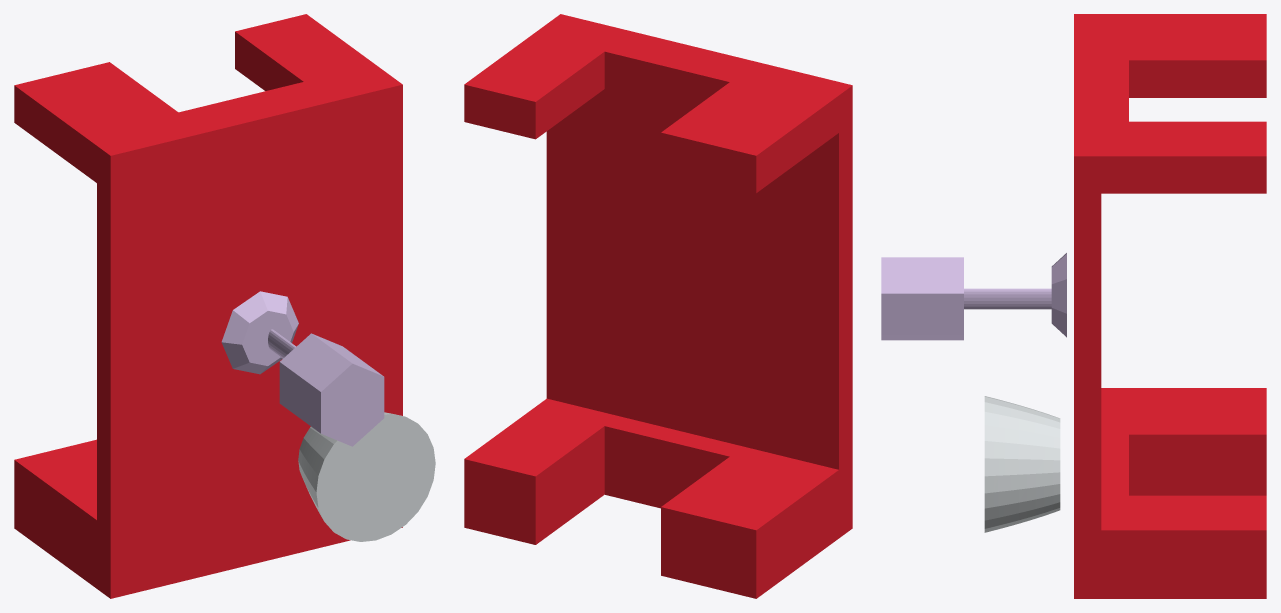
File: tinker.obj
3 renders of one model, left to right at view 1: azimuth 30°, elevation 25°; view 2: azimuth 150°, elevation 25°; view 3: azimuth 270°, elevation 25°, orthographic.
Visible parts, largest first — view 1: group_0_15277357, group_0_13877221, group_0_14541540; view 2: group_0_15277357; view 3: group_0_15277357, group_0_13877221, group_0_14541540.
Boxes of the visible parts, bbox=[...] form: group_0_15277357: bbox=[14, 14, 402, 598]; group_0_13877221: bbox=[221, 291, 384, 446]; group_0_14541540: bbox=[298, 412, 435, 541]; group_0_15277357: bbox=[464, 14, 852, 598]; group_0_15277357: bbox=[1074, 14, 1266, 598]; group_0_13877221: bbox=[881, 253, 1066, 340]; group_0_14541540: bbox=[984, 396, 1060, 532].
Size of the model in its own units: 49 by 71 by 56.
